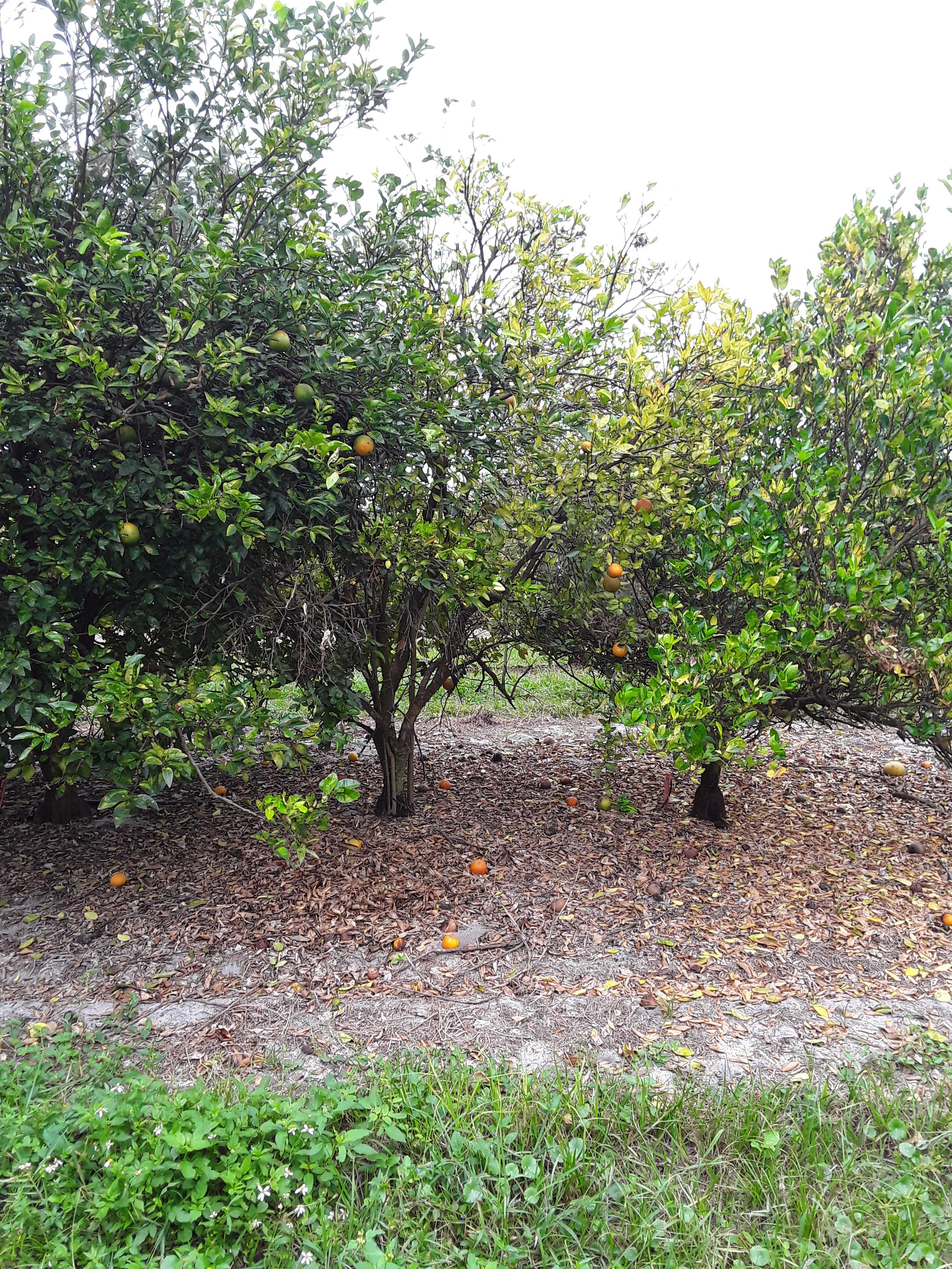fruit_on_ground: (115, 517, 142, 547), (266, 327, 293, 353), (352, 431, 377, 457), (291, 381, 317, 405), (114, 423, 140, 445), (633, 495, 654, 517), (611, 640, 630, 658), (602, 575, 621, 593), (605, 561, 625, 578), (579, 438, 596, 454), (649, 554, 666, 569), (441, 675, 456, 691)
fruit_on_tree: (882, 759, 908, 778), (468, 856, 489, 876), (108, 869, 129, 888), (638, 992, 660, 1010), (905, 839, 926, 857), (441, 931, 460, 950), (549, 894, 567, 912), (645, 881, 664, 898), (594, 794, 613, 811), (345, 836, 364, 852), (439, 918, 457, 934), (681, 844, 699, 859), (939, 909, 952, 929), (392, 935, 407, 951), (213, 783, 228, 797), (490, 750, 506, 763), (542, 733, 558, 746), (438, 776, 452, 790), (537, 776, 552, 789), (260, 755, 274, 768), (347, 748, 360, 762), (917, 759, 932, 771), (794, 792, 808, 804), (415, 783, 430, 794), (558, 774, 571, 786), (566, 795, 579, 807)
